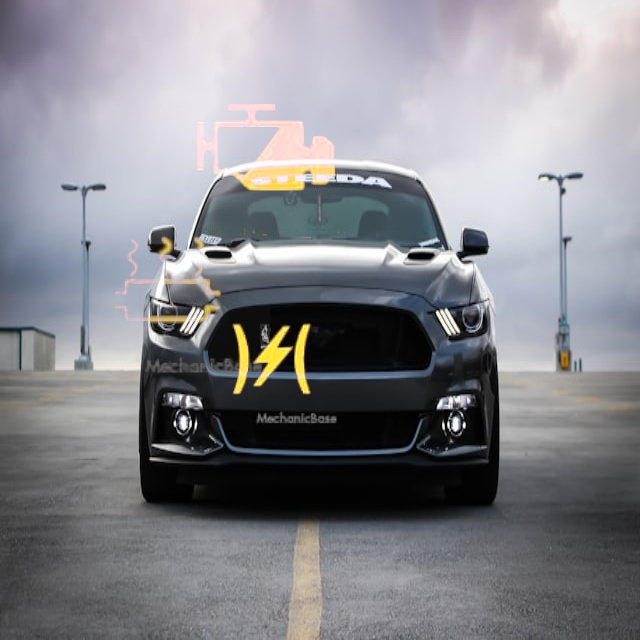symbol: (65, 178, 270, 383), (162, 46, 366, 250), (202, 290, 342, 430)
